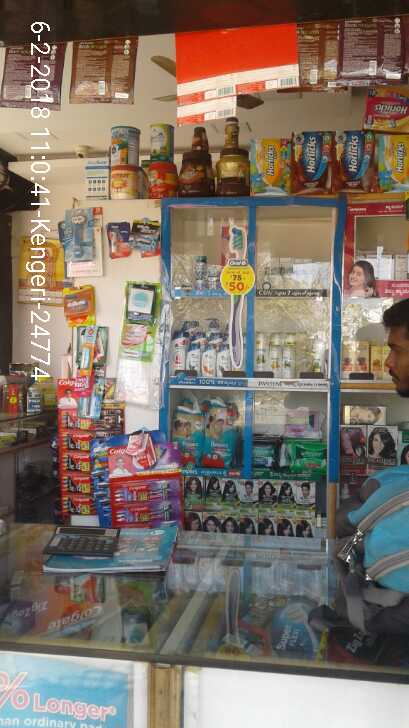beauty: (262, 255, 293, 292), (214, 343, 233, 381), (276, 343, 295, 381), (182, 345, 201, 378), (170, 332, 184, 375), (252, 331, 265, 377), (200, 343, 215, 381), (269, 338, 278, 380)
pharmacy: (202, 401, 236, 470), (171, 403, 200, 471), (285, 435, 329, 477), (202, 271, 224, 294), (193, 254, 205, 273), (194, 275, 206, 294)
